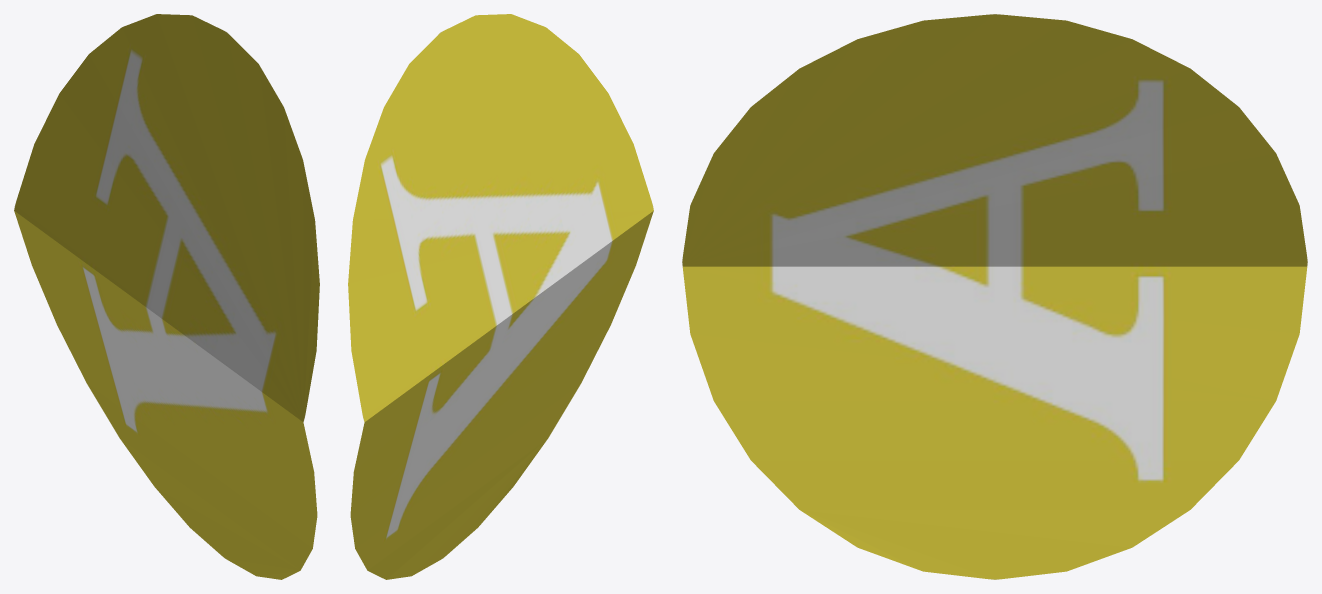
Rendered from mp-01556-geode.glb.
3 views of the same model, side by side, from view 1: azimuth 30°, elevation 25°; view 2: azimuth 150°, elevation 25°; view 3: azimuth 270°, elevation 25° (orthographic). The views are drawn at different scales.
Parts seen in each view (by area): view 1: Node; view 2: Node; view 3: Node.
Part boxes in pixels (x1,y1,x2,y2): Node: [14, 14, 319, 579]; Node: [348, 14, 653, 579]; Node: [682, 14, 1307, 579].
Bounding box in the file's own units: 0.0204 × 0.1498 × 0.1498.
1 material, 1 textured.
